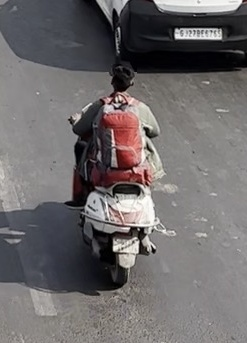BikeWithRider: (57, 56, 180, 289)
NoHelmet: (103, 57, 142, 96)
